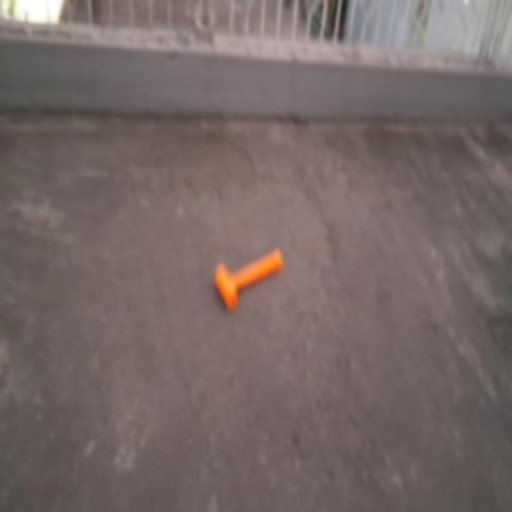mallet: (214, 246, 284, 314)
